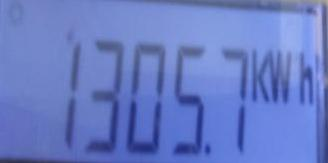.: (248, 50, 316, 106)
0: (204, 145, 212, 156)
1: (126, 49, 167, 143)
2: (62, 39, 81, 151)
4: (85, 38, 124, 152)
6: (170, 44, 208, 155)
8: (218, 46, 252, 155)
